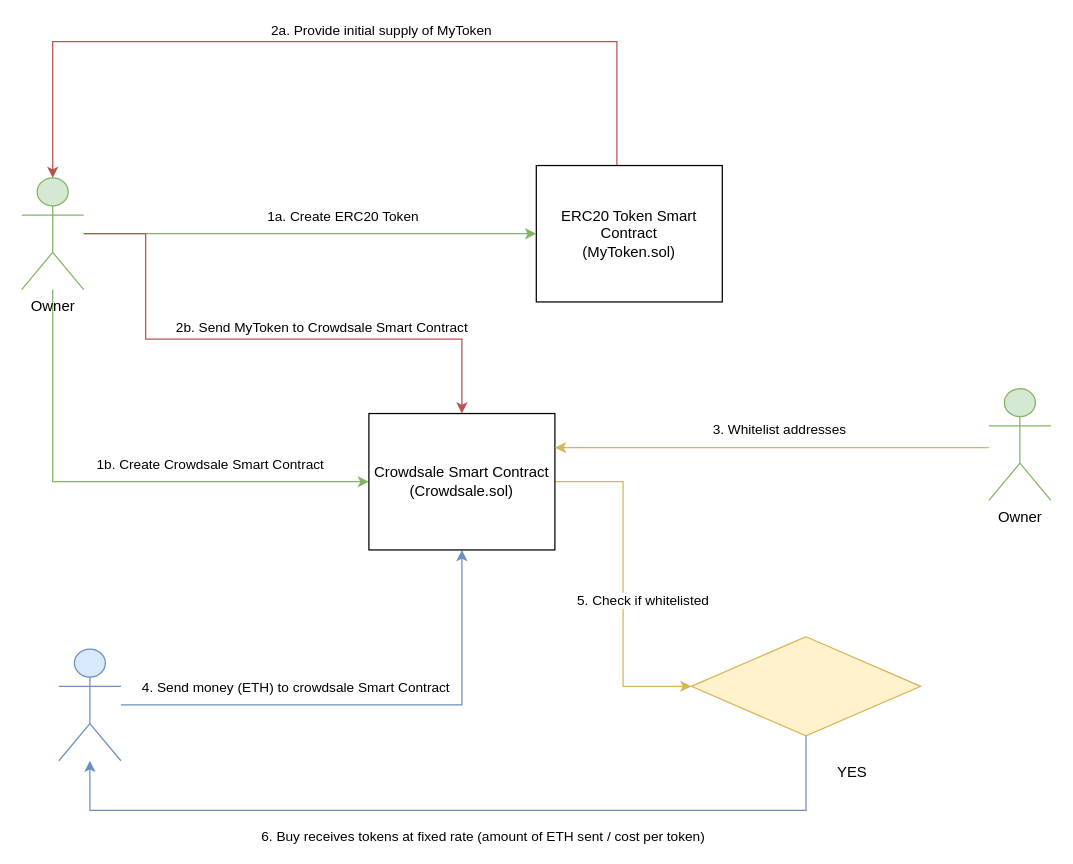
Image size: 1073x864. Some labels were removed from this diagram. Each missing label, with the centre of its shape:
Buyer: the point at 89,704
Whitelisted?: the point at 805,686
